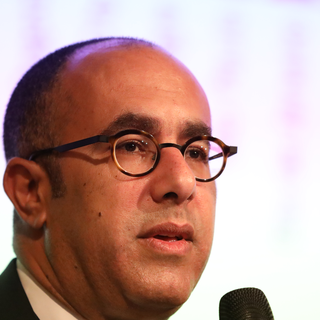eye: (114, 135, 152, 159), (180, 142, 208, 164)
